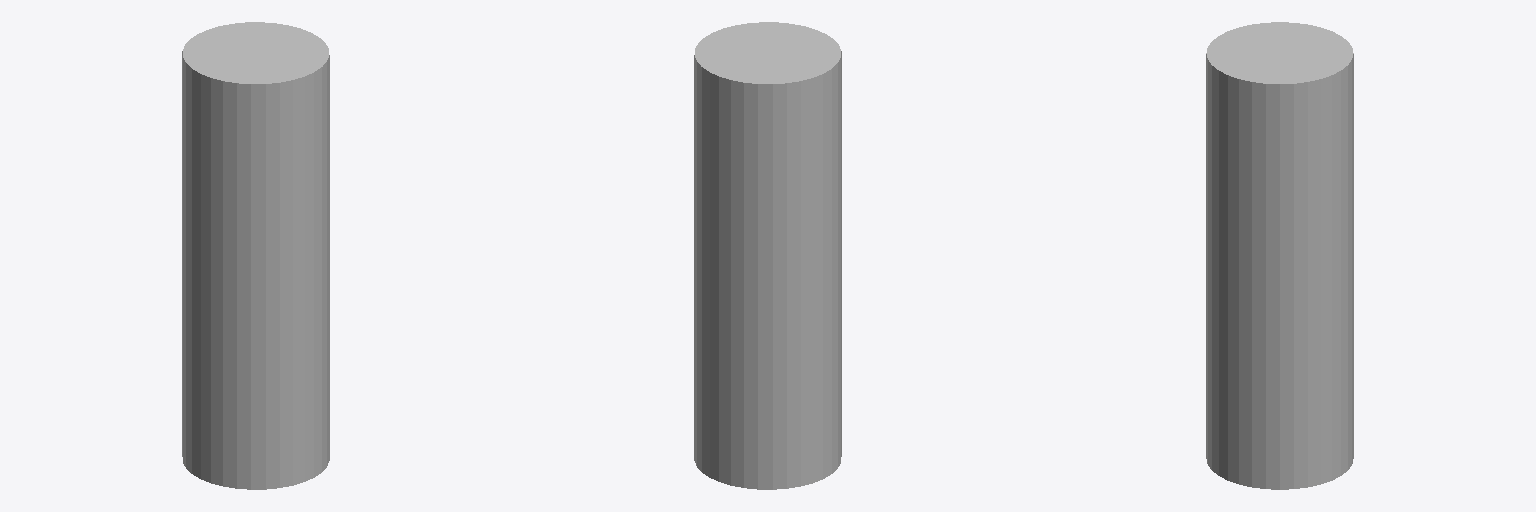
File: boolean_mic_new.obj
3 views of the same model, side by side, from view 1: azimuth 30°, elevation 25°; view 2: azimuth 150°, elevation 25°; view 3: azimuth 270°, elevation 25° (orthographic).
Parts seen in each view (by area): view 1: Cylinder; view 2: Cylinder; view 3: Cylinder.
Boxes of the visible parts, box(x1,y1,x2,y2) form: Cylinder: box(182, 22, 329, 489); Cylinder: box(694, 22, 841, 489); Cylinder: box(1206, 22, 1353, 489).
Size of the model in its own units: 0.0185 by 0.0562 by 0.0185.